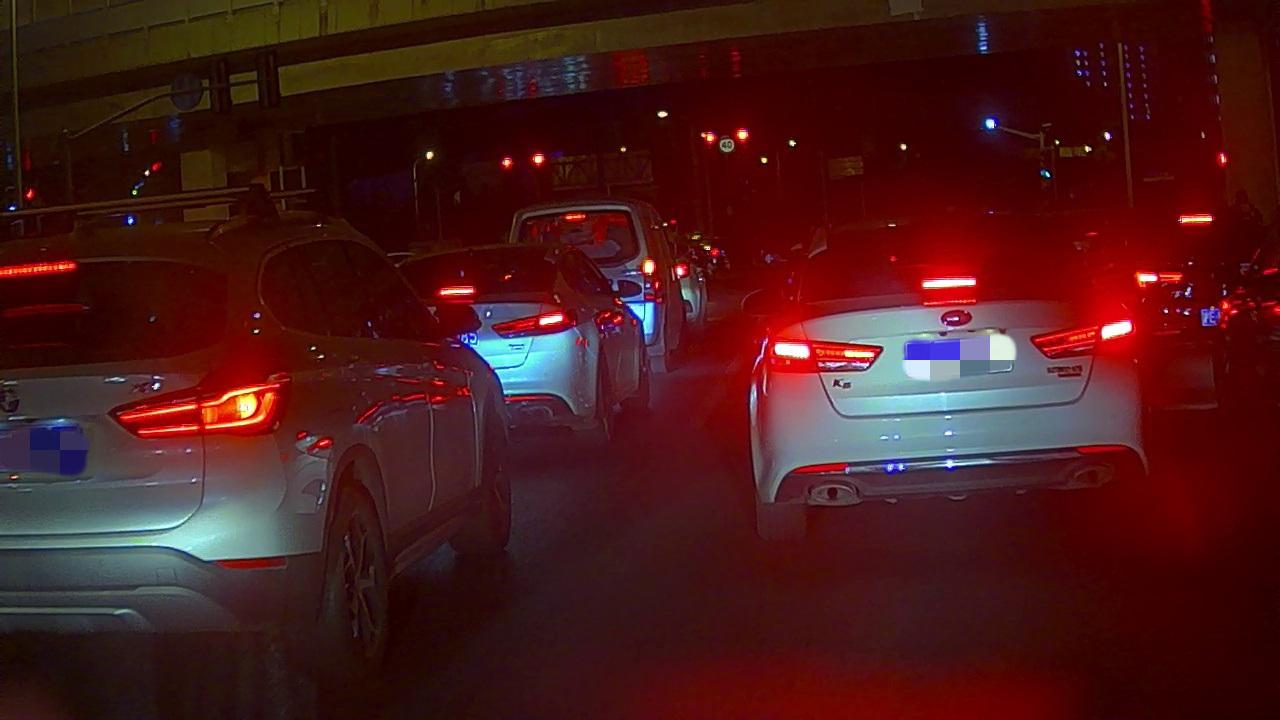traffic_light: (699, 127, 719, 149), (733, 126, 751, 146), (497, 154, 516, 172), (529, 151, 545, 168)
